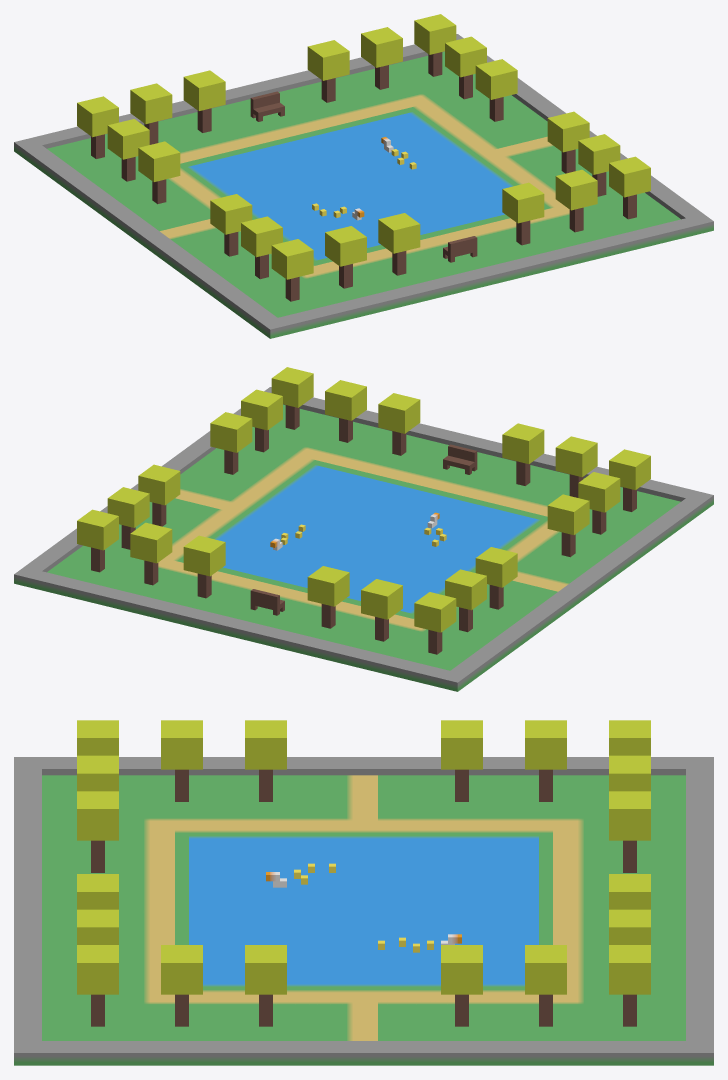
The model's file is Park.dae.
The picture shows the model from 3 angles, top to bottom: view 1: azimuth 30°, elevation 25°; view 2: azimuth 150°, elevation 25°; view 3: azimuth 270°, elevation 25°; orthographic projection. The views are drawn at different scales.
Parts seen in each view (by area): view 1: Matrix_19; view 2: Matrix_19; view 3: Matrix_19.
Part boxes in pixels (x1=…): Matrix_19: x1=14, y1=14, x2=713, y2=338; Matrix_19: x1=14, y1=367, x2=713, y2=691; Matrix_19: x1=14, y1=720, x2=713, y2=1065.
Size of the model in its own units: 100 by 12 by 100.
Materials: 1 (1 with a texture image).
